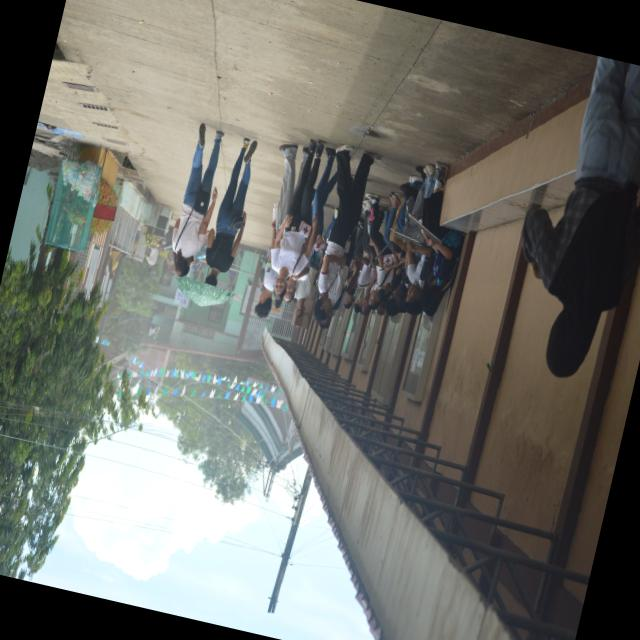person: (521, 56, 639, 376), (313, 144, 380, 320), (270, 139, 323, 298), (172, 124, 223, 275), (254, 143, 297, 317), (205, 138, 256, 284), (420, 161, 462, 313), (311, 146, 336, 234), (107, 248, 121, 278), (145, 246, 158, 269)
